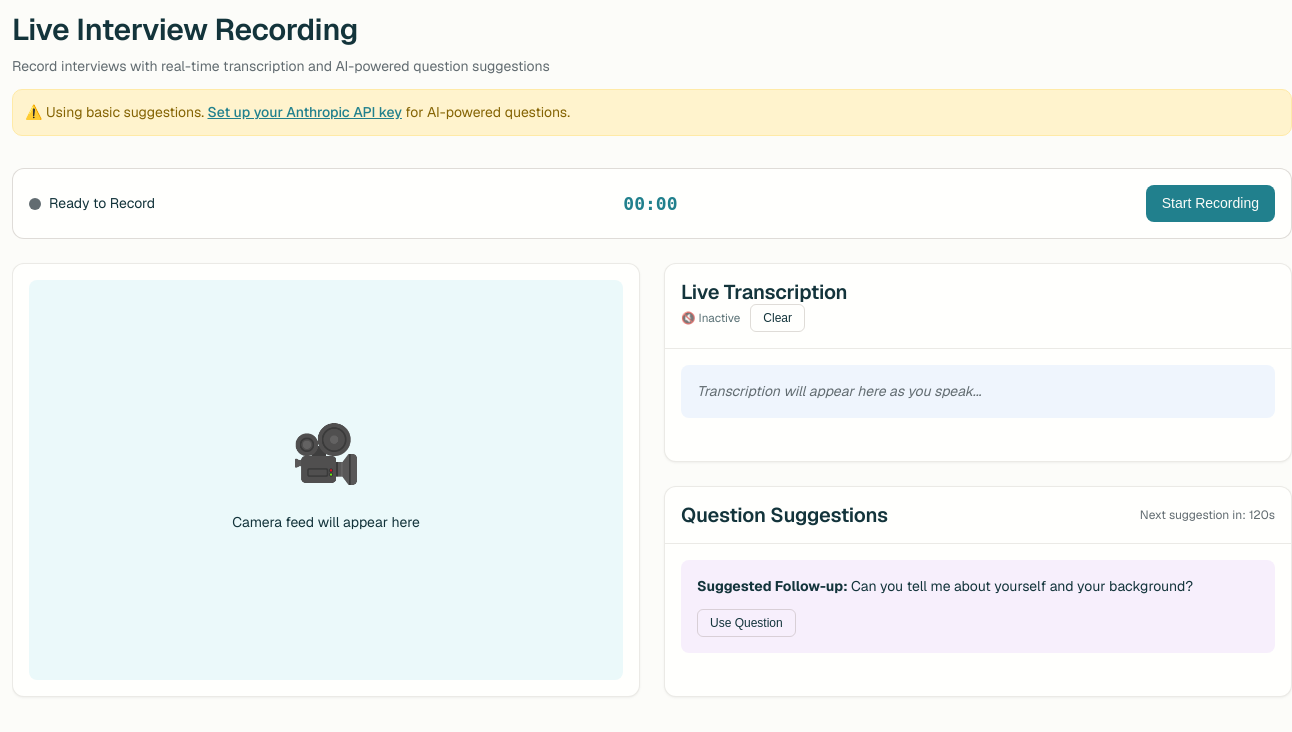
LiveInterview › starts recording when button is clicked
What coordinates should you click on to do the following:
click the button "Start Recording"
I would click on:
 (1210, 204)
Its box is x1=1146 y1=185 x2=1275 y2=222.
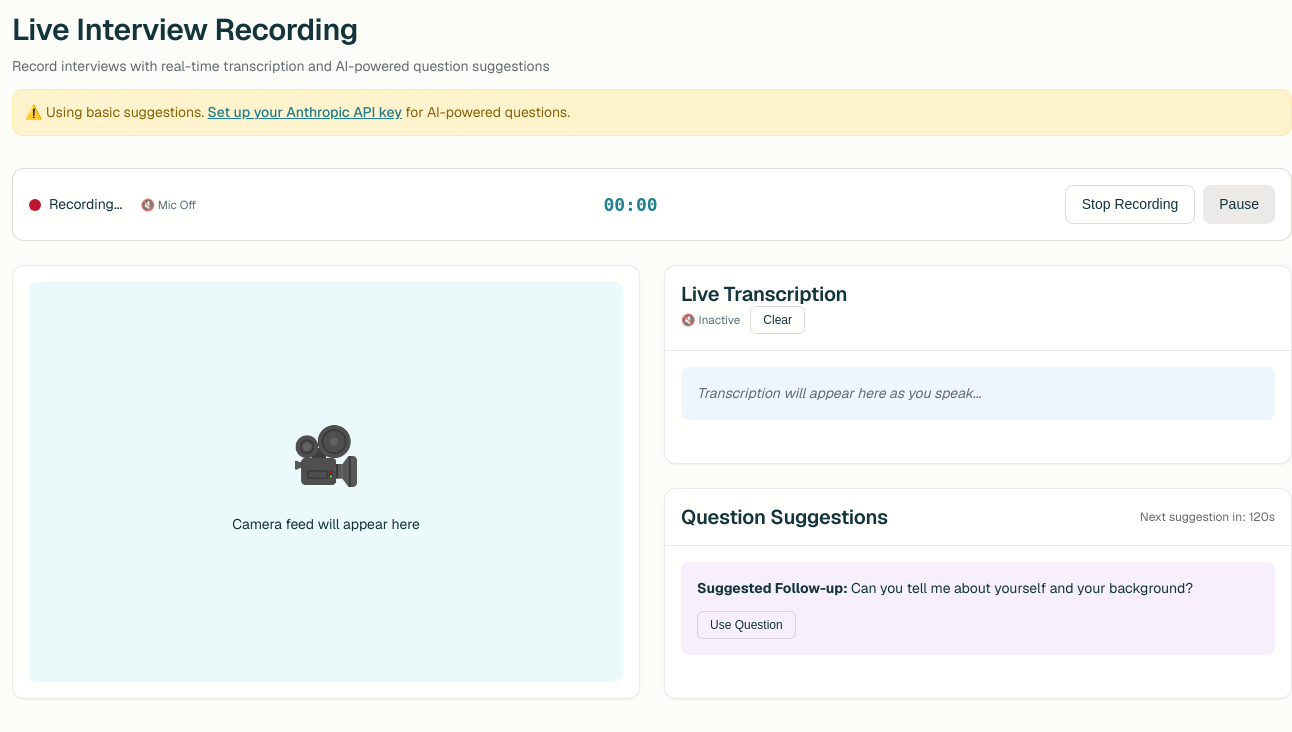
Expected: the text "Recording..." is shown, x1=49 y1=194 x2=122 y2=215
Expected: the button "Stop Recording" is shown, x1=1065 y1=185 x2=1195 y2=224
Expected: the button "Pause" is shown, x1=1203 y1=185 x2=1275 y2=224
